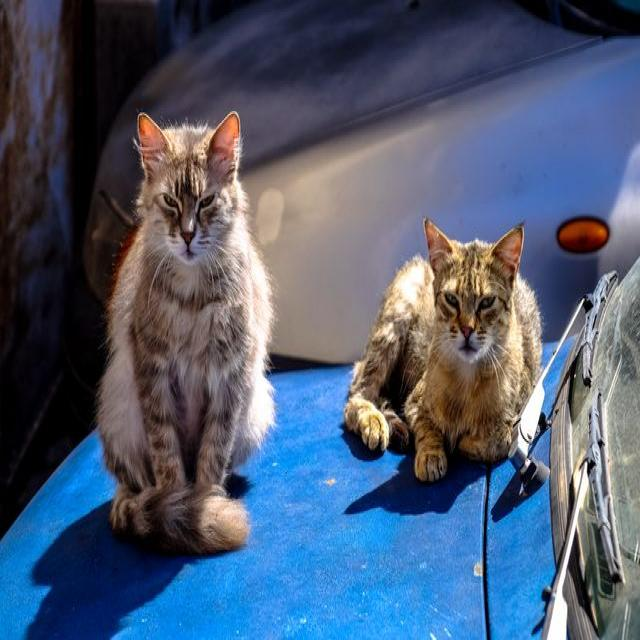cat: (113, 110, 269, 548), (356, 215, 556, 531)
